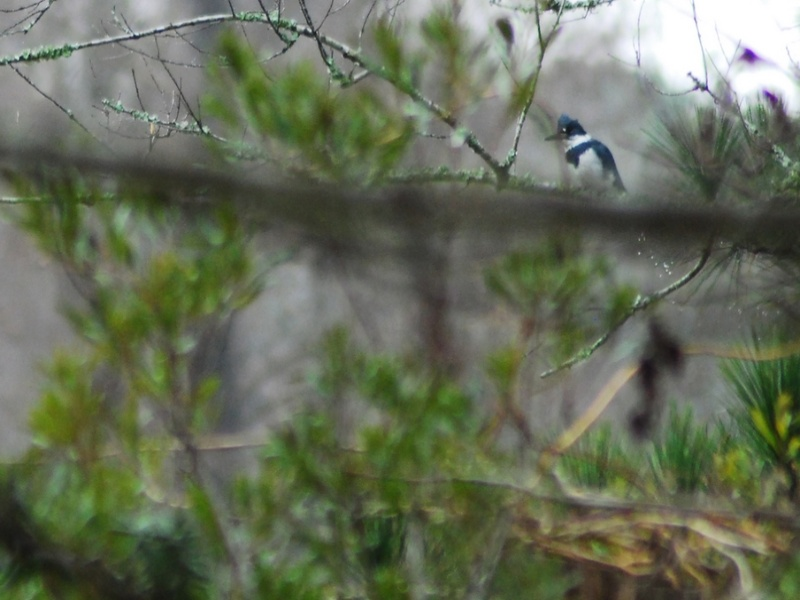kingfisher: (543, 112, 631, 204)
